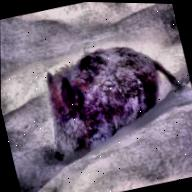boar: (16, 18, 192, 180)
